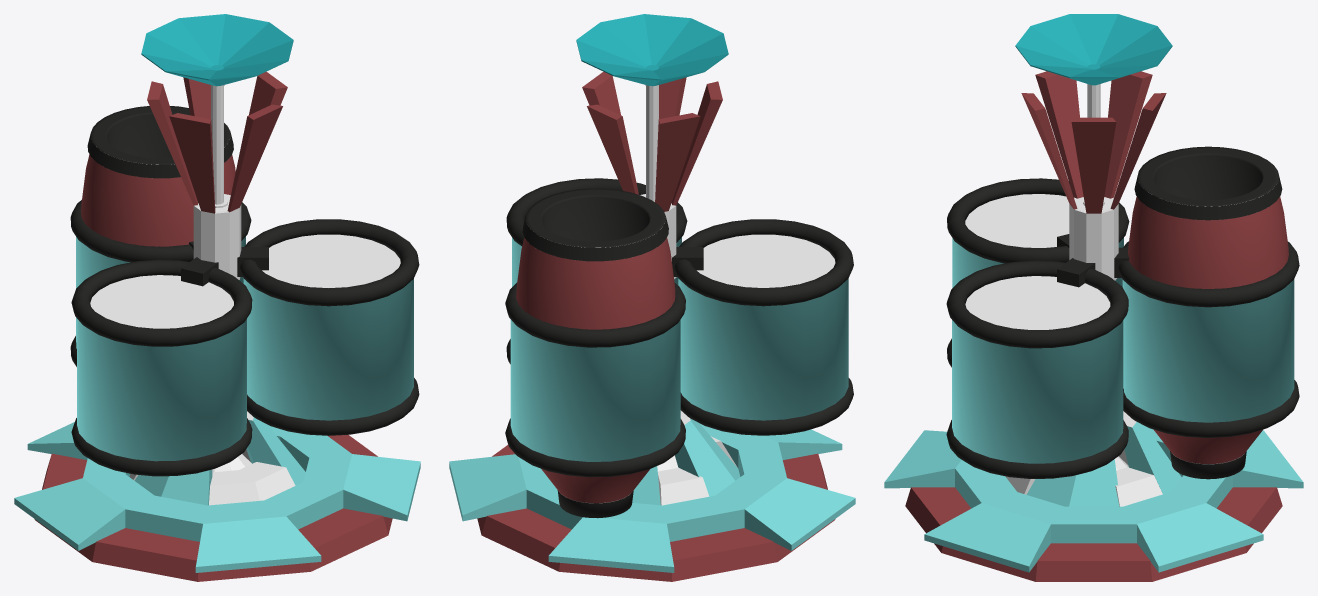
File: Rocket_1.fbx
3 views of the same model, side by side, from view 1: azimuth 30°, elevation 25°; view 2: azimuth 150°, elevation 25°; view 3: azimuth 270°, elevation 25° (orthographic).
Visible parts, largest first — view 1: Rocket_lv1; view 2: Rocket_lv1; view 3: Rocket_lv1.
Part boxes in pixels (x1,y1,x2,y2): Rocket_lv1: [14, 14, 420, 581]; Rocket_lv1: [449, 14, 855, 581]; Rocket_lv1: [884, 14, 1303, 581].
Bounding box in the file's own units: 211 × 269 × 222.
